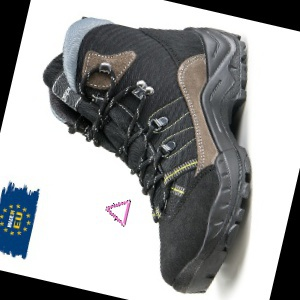triangle: (103, 197, 132, 228)
